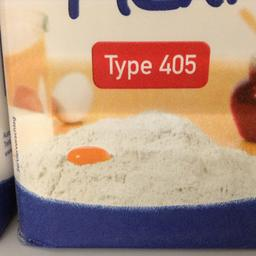flour: (0, 0, 251, 248)
